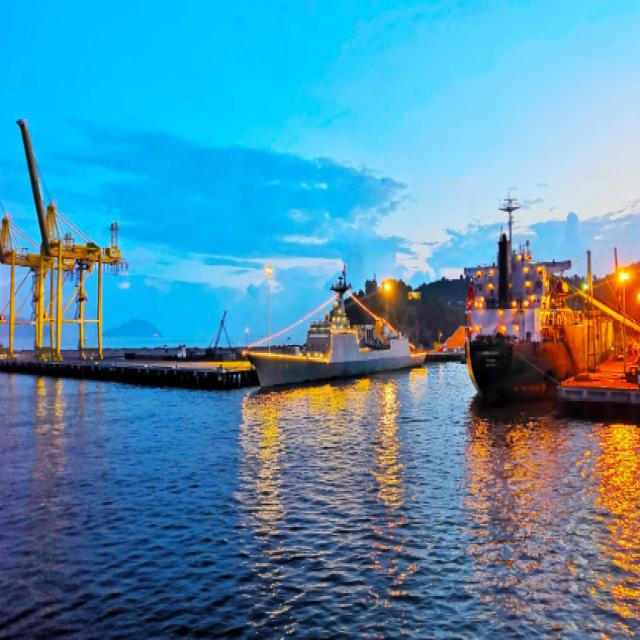houseboat: (455, 206, 608, 387), (244, 270, 409, 378)
